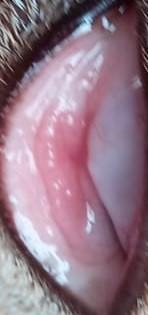eye_membrane: (2, 4, 146, 315)
